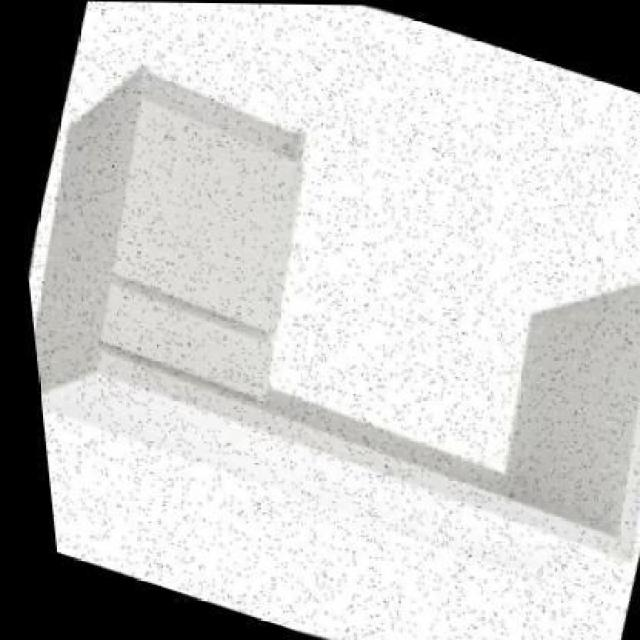tables: (9, 0, 638, 638)
